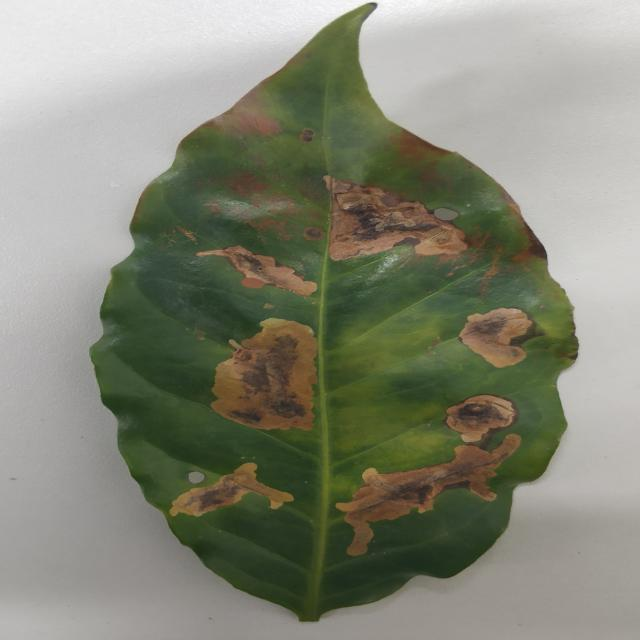Plaga-Minador: (88, 3, 580, 625)
